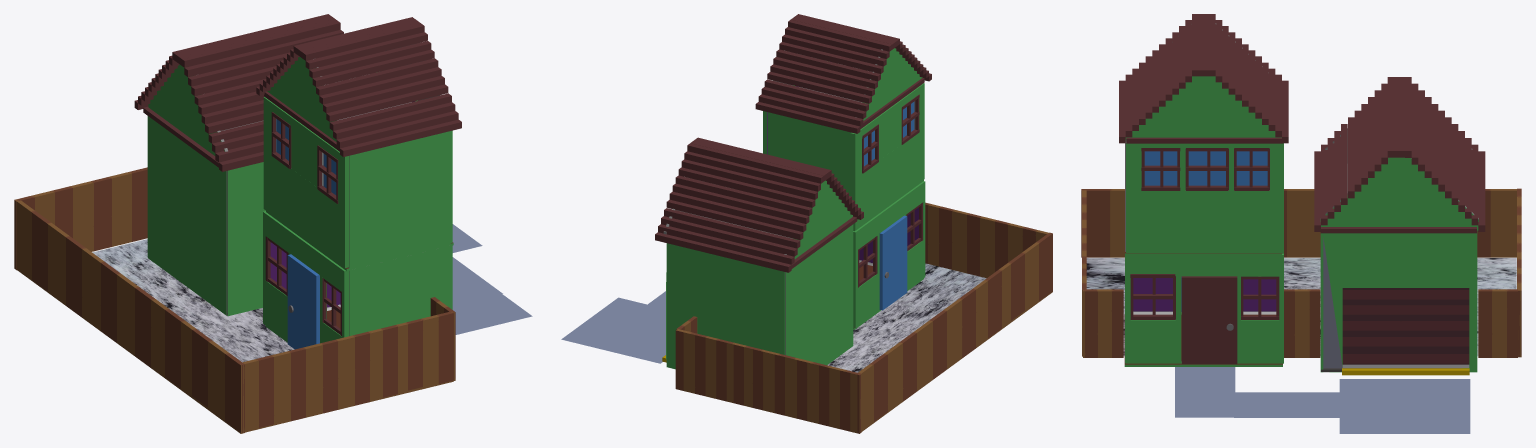
Rendered from Casa.obj.
3 views of the same model, side by side, from view 1: azimuth 30°, elevation 25°; view 2: azimuth 150°, elevation 25°; view 3: azimuth 270°, elevation 25° (orthographic). The views are drawn at different scales.
Visible parts, largest first — view 1: pasted__pasted__pCube5 pasted__group33 group99, group14_pasted__group12_pasted__pasted__group11_pasted__pasted__, pasted__pCube5 group33, pasted__group14_pasted__group12_pasted__pasted__group11_pasted__, pasted__pasted__pCube2 pasted__group2 group8, pasted__pasted__pCube1 pasted__group group24, pasted__pasted__pasted__pasted__pCube12 pasted__pasted__pasted__, polySurface9, pPlane1, pasted__pCube2 group2, pasted__pasted__pasted__pCube1 pasted__pasted__group pasted__gro, pasted__pCube12 group105 (+9 smaller); view 2: pasted__group14_pasted__group12_pasted__pasted__group11_pasted__, pasted__pasted__pCube5 pasted__group33 group99, group14_pasted__group12_pasted__pasted__group11_pasted__pasted__, polySurface9, pasted__pasted__pasted__pCube1 pasted__pasted__group pasted__gro, pasted__pasted__pCube1 pasted__group group24, pasted__pasted__pasted__pasted__pCube12 pasted__pasted__pasted__, pasted__pCube5 group33, pPlane1, pPlane2, pasted__pasted__pasted__pCube2 pasted__pasted__group2 pasted__gr, pasted__pCube12 group105 (+4 smaller); view 3: pasted__pasted__pasted__pCube12 pasted__pasted__group101 pasted_, pasted__group14_pasted__group12_pasted__pasted__group11_pasted__, group27_pasted__group24_pasted__pasted__group_pasted__pasted__pa, group14_pasted__group12_pasted__pasted__group11_pasted__pasted__, polySurface5 group27_pasted__group24_pasted__pasted__group_paste, polySurface20 pCube12, pasted__pasted__pCube5 pasted__group33 group99, pPlane2, pasted__pasted__pasted__pasted__pCube1 pasted__pasted__pasted__g, pasted__pasted__pasted__pCube5 pasted__pasted__group33 pasted__g, pCube4, pCube13 (+14 smaller).
Part boxes in pixels (x1,y1,x2,y2): pasted__pasted__pCube5 pasted__group33 group99: [15, 199, 244, 433]; group14_pasted__group12_pasted__pasted__group11_pasted__pasted__: [256, 17, 461, 156]; pasted__pCube5 group33: [242, 311, 453, 432]; pasted__group14_pasted__group12_pasted__pasted__group11_pasted__: [134, 14, 343, 171]; pasted__pasted__pCube2 pasted__group2 group8: [348, 131, 450, 268]; pasted__pasted__pCube1 pasted__group group24: [148, 116, 227, 315]; pasted__pasted__pasted__pasted__pCube12 pasted__pasted__pasted__: [263, 97, 348, 268]; polySurface9: [14, 167, 147, 270]; pPlane1: [92, 239, 294, 362]; pasted__pCube2 group2: [349, 245, 450, 336]; pasted__pasted__pasted__pCube1 pasted__pasted__group pasted__gro: [147, 116, 265, 316]; pasted__pCube12 group105: [263, 211, 348, 343]; pasted__group14_pasted__group12_pasted__pasted__group11_pasted__: [655, 137, 863, 272]; pasted__pasted__pCube5 pasted__group33 group99: [858, 232, 1052, 431]; group14_pasted__group12_pasted__pasted__group11_pasted__pasted__: [755, 14, 931, 133]; polySurface9: [675, 329, 861, 433]; pasted__pasted__pasted__pCube1 pasted__pasted__group pasted__gro: [666, 243, 785, 369]; pasted__pasted__pCube1 pasted__group group24: [785, 224, 853, 365]; pasted__pasted__pasted__pasted__pCube12 pasted__pasted__pasted__: [850, 83, 924, 229]; pasted__pCube5 group33: [925, 202, 1049, 278]; pPlane1: [827, 263, 986, 372]; pPlane2: [561, 297, 665, 363]; pasted__pasted__pasted__pCube2 pasted__pasted__group2 pasted__gr: [768, 112, 852, 196]; pasted__pCube12 group105: [853, 181, 925, 327]; pasted__pasted__pasted__pCube12 pasted__pasted__group101 pasted_: [1126, 143, 1283, 253]; pasted__group14_pasted__group12_pasted__pasted__group11_pasted__: [1314, 77, 1485, 231]; group27_pasted__group24_pasted__pasted__group_pasted__pasted__pa: [1323, 233, 1474, 372]; group14_pasted__group12_pasted__pasted__group11_pasted__pasted__: [1119, 14, 1288, 143]; polySurface5 group27_pasted__group24_pasted__pasted__group_paste: [1342, 288, 1469, 364]; polySurface20 pCube12: [1126, 253, 1283, 363]; pasted__pasted__pCube5 pasted__group33 group99: [1081, 189, 1516, 257]; pPlane2: [1339, 379, 1470, 433]; pasted__pasted__pasted__pasted__pCube1 pasted__pasted__pasted__g: [1320, 157, 1478, 230]; pasted__pasted__pasted__pCube5 pasted__pasted__group33 pasted__g: [1083, 289, 1517, 357]; pCube4: [1125, 76, 1281, 139]; pCube13: [1181, 276, 1237, 364].
Bounding box in the file's own units: 21.24 × 16.68 × 22.18.
Materials: 44 (43 with a texture image).
